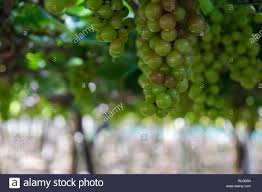grapes: (139, 5, 197, 113), (210, 7, 258, 84), (84, 2, 132, 58)
